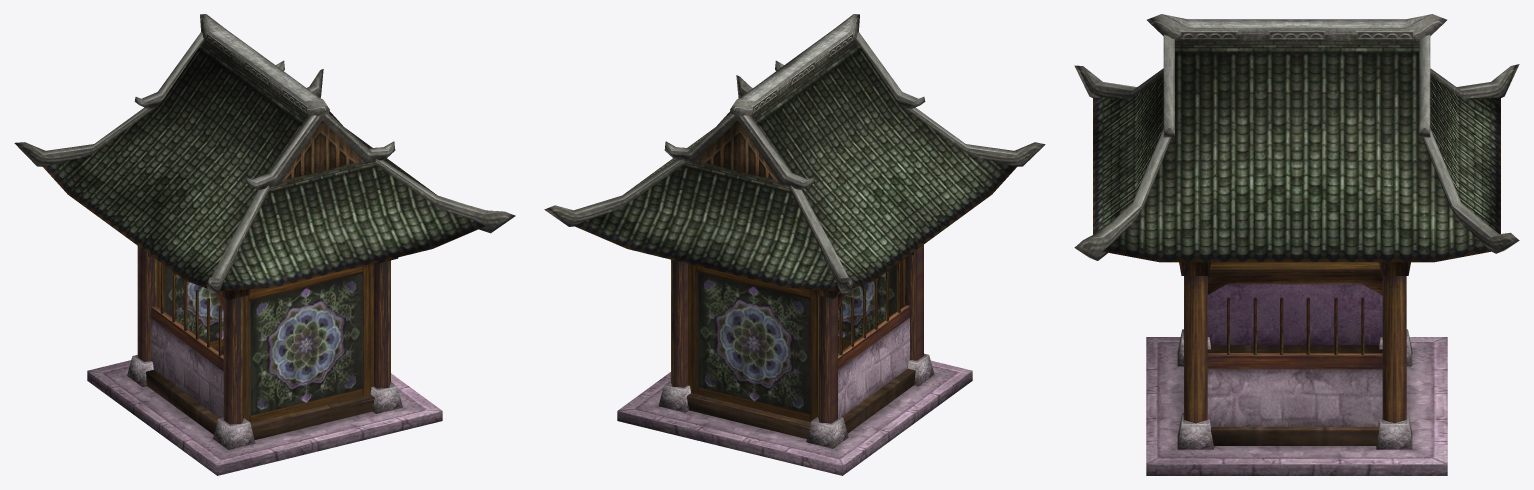
Rendered from c1-004-house2_lod_01.fbx.
3 renders of one model, left to right at view 1: azimuth 30°, elevation 25°; view 2: azimuth 150°, elevation 25°; view 3: azimuth 270°, elevation 25°, orthographic. The views are drawn at different scales.
Visible parts, largest first — view 1: c1-004-house2; view 2: c1-004-house2; view 3: c1-004-house2.
Boxes of the visible parts, x1=… form: c1-004-house2: x1=14, y1=14, x2=515, y2=475; c1-004-house2: x1=544, y1=14, x2=1045, y2=475; c1-004-house2: x1=1074, y1=14, x2=1519, y2=475.
Size of the model in its own units: 5.14 by 5.45 by 5.53.
